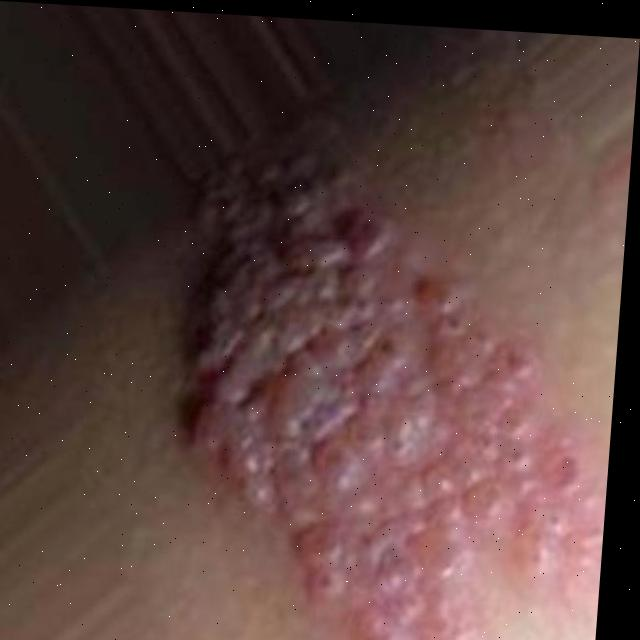Shingles: (153, 135, 629, 640)
